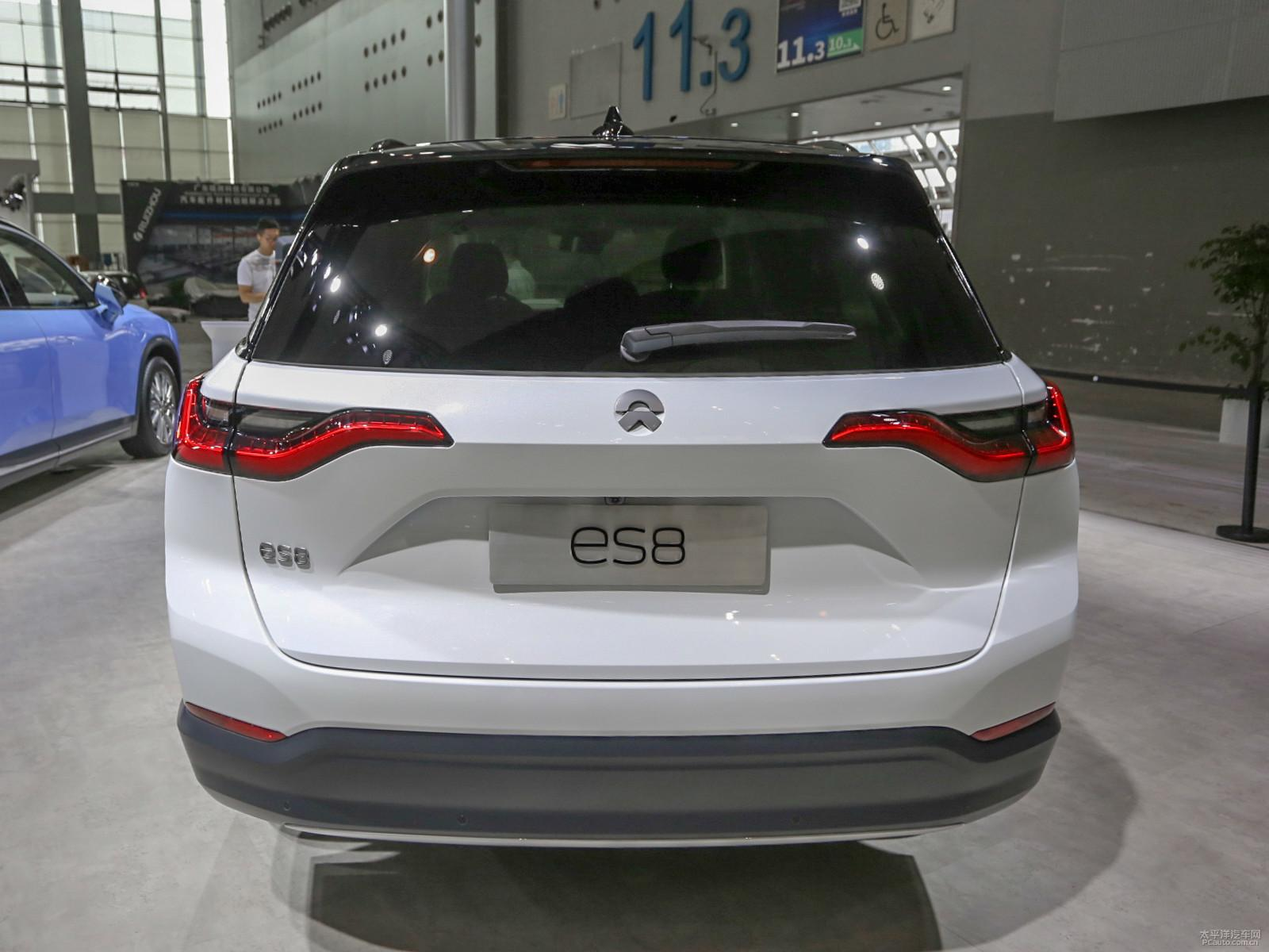NIO: (615, 390, 665, 432)
